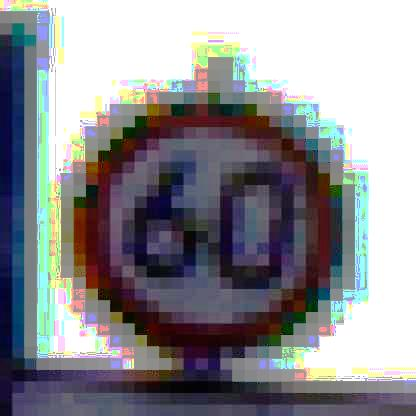Speed Limit -60-: (60, 89, 356, 358)
